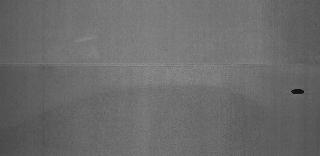punching hole: (290, 88, 306, 98)
welding line: (0, 58, 318, 70)
